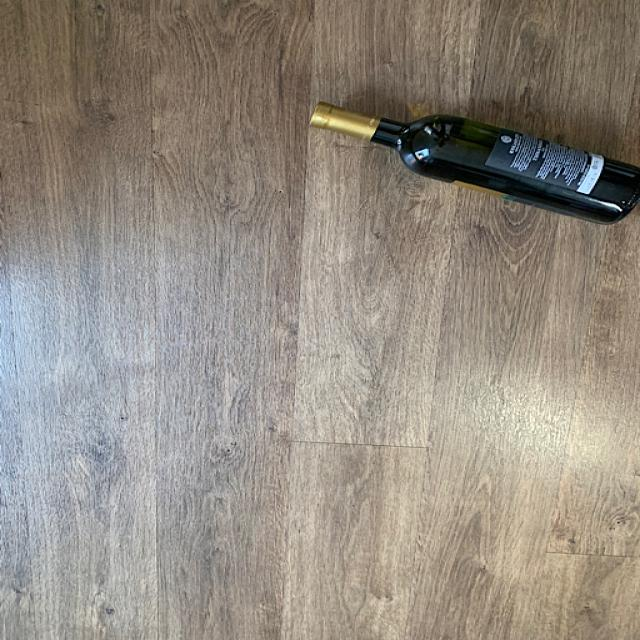litter: (305, 103, 639, 230)
